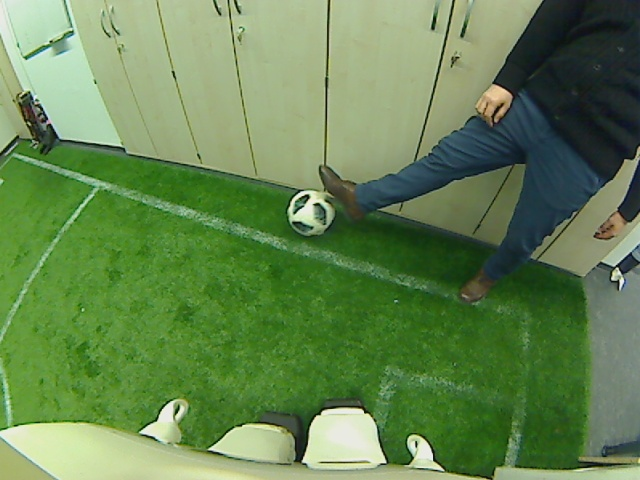ball: (286, 189, 337, 236)
